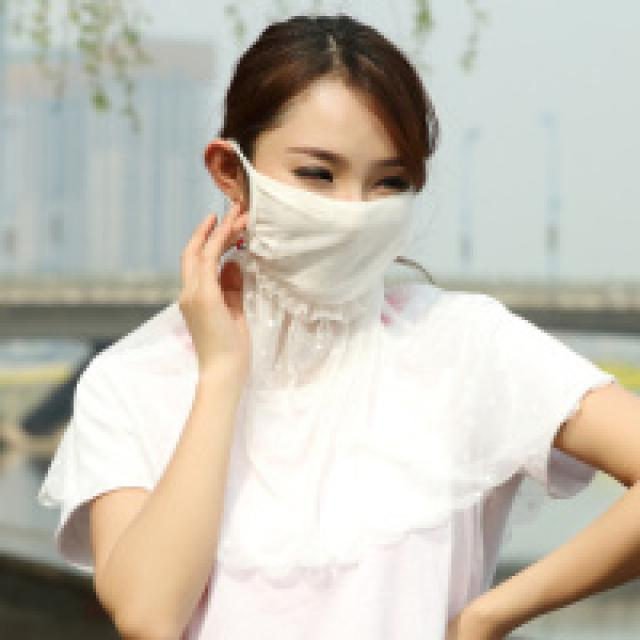mask: (246, 106, 413, 323)
